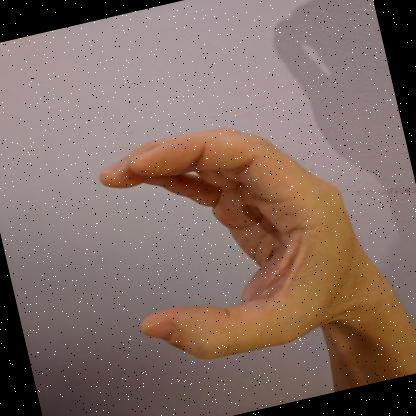C: (100, 128, 403, 359)
